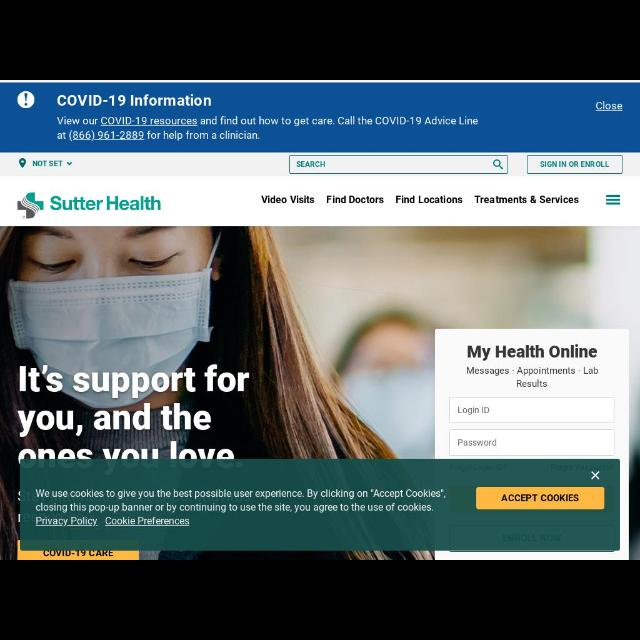backgroundimage: (1, 227, 640, 557)
button: (605, 192, 623, 208)
icon: (16, 92, 36, 110), (605, 194, 621, 206), (492, 160, 503, 170), (590, 470, 600, 480), (19, 158, 26, 168), (66, 162, 72, 166)
iframe: (21, 458, 620, 552), (1, 84, 640, 152)
image: (16, 192, 46, 220)
input: (449, 398, 615, 424), (449, 429, 615, 455), (289, 156, 509, 174)
multitab: (258, 194, 582, 206)
panel: (434, 328, 630, 560)
spinner: (32, 159, 74, 169)
text: (19, 362, 251, 472), (35, 489, 448, 527), (56, 116, 478, 142), (466, 366, 600, 388), (467, 344, 599, 362), (57, 94, 211, 108), (49, 196, 162, 212), (474, 195, 580, 205), (260, 194, 316, 206), (396, 195, 462, 205), (500, 494, 580, 502), (324, 195, 386, 205), (42, 550, 114, 558), (540, 161, 608, 169), (457, 438, 498, 448), (457, 406, 491, 416), (596, 101, 622, 112), (32, 160, 62, 168), (296, 160, 326, 168)
textbutton: (477, 486, 605, 512), (15, 540, 138, 558), (526, 155, 624, 175), (592, 96, 626, 118)
toolbar: (1, 153, 639, 227)
